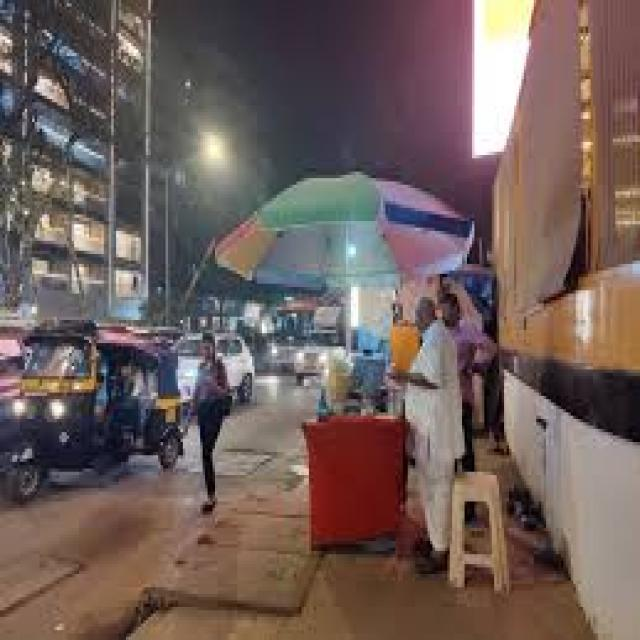auto ahead at: (9, 318, 184, 503)
person ahead at: (396, 298, 462, 577), (189, 329, 233, 511)
